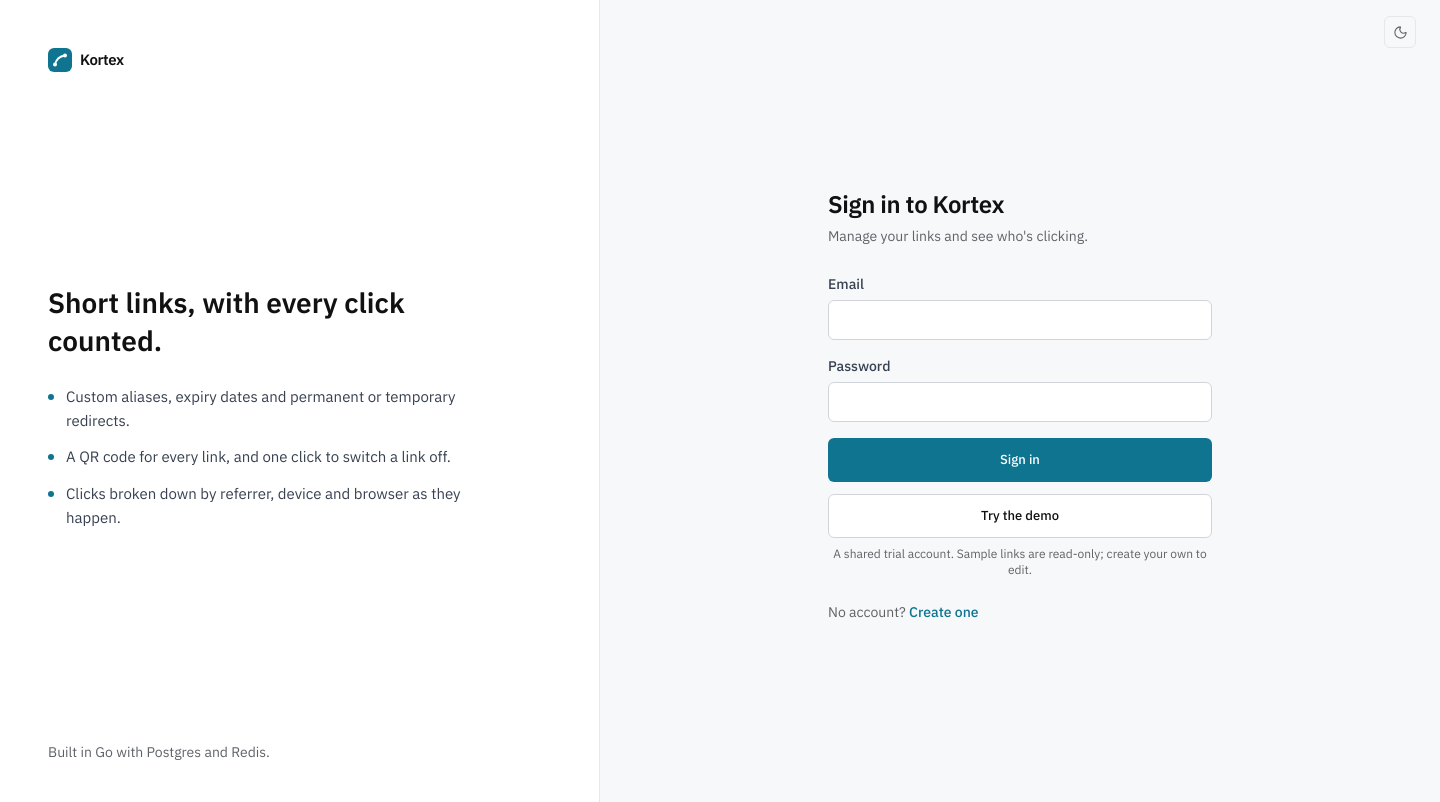
Test: App routes › offers the shared demo account only in demo mode
The width and height of the screenshot is (1440, 802).
Expected: the field with test id "login-email" is empty, [828,300,1212,340]
What coordinates should you click on to do the following:
click the button with test id "login-demo-btn"
I would click on:
 (1020, 516)
Its box is [828,494,1212,538].
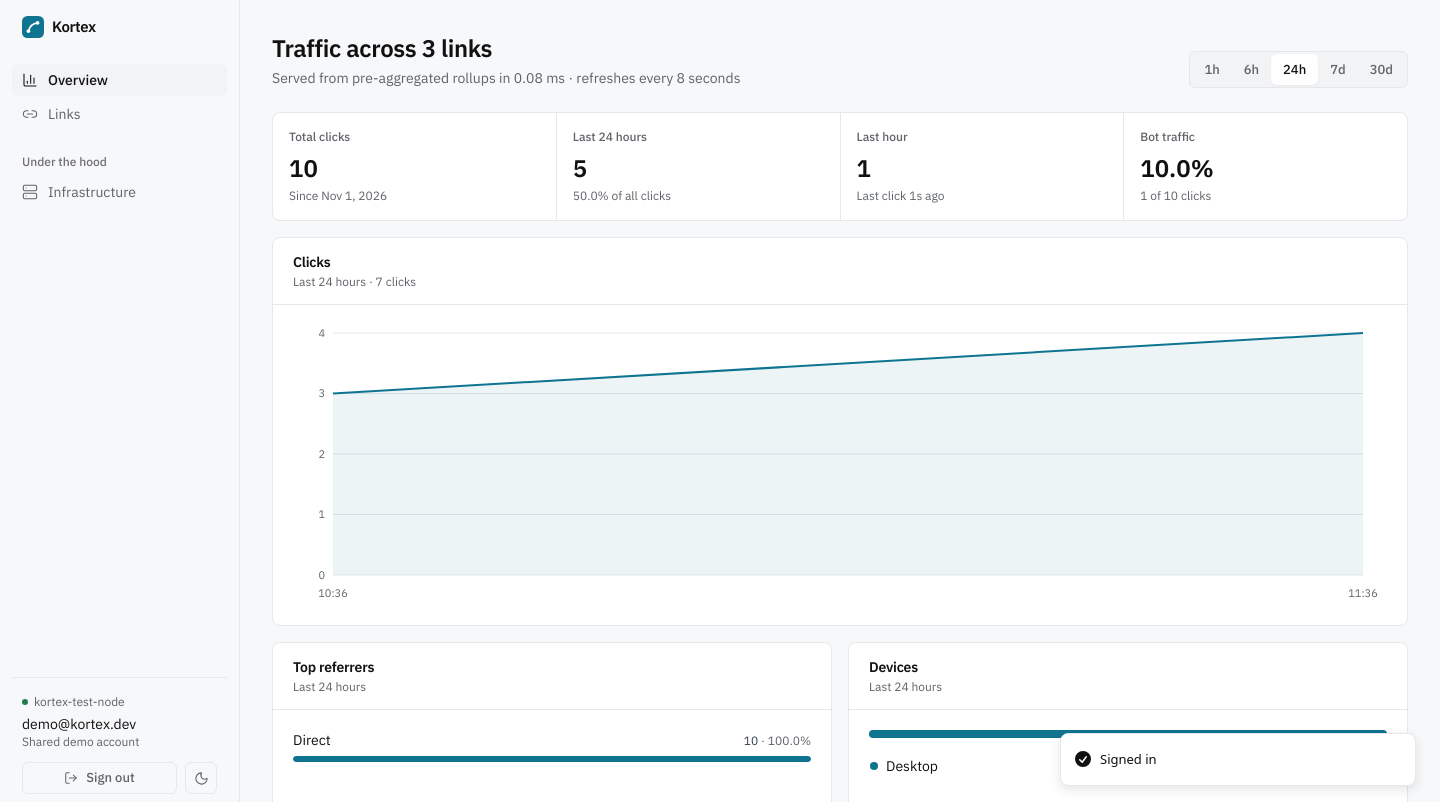
Result: the text with test id "shell-demo-note" reads "Shared demo account" at [22,734,139,749]
